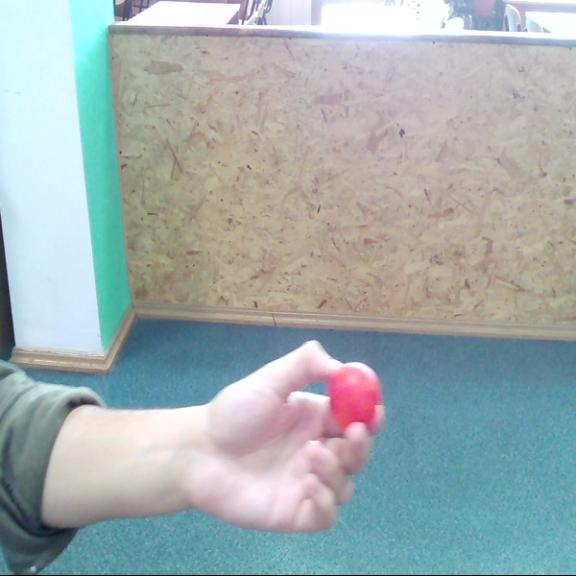ball: (331, 362, 379, 430)
